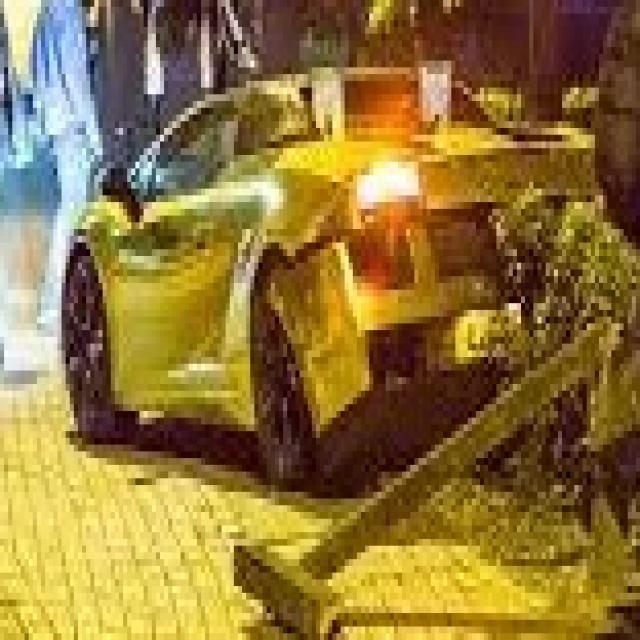moderate: (161, 175, 583, 407)
